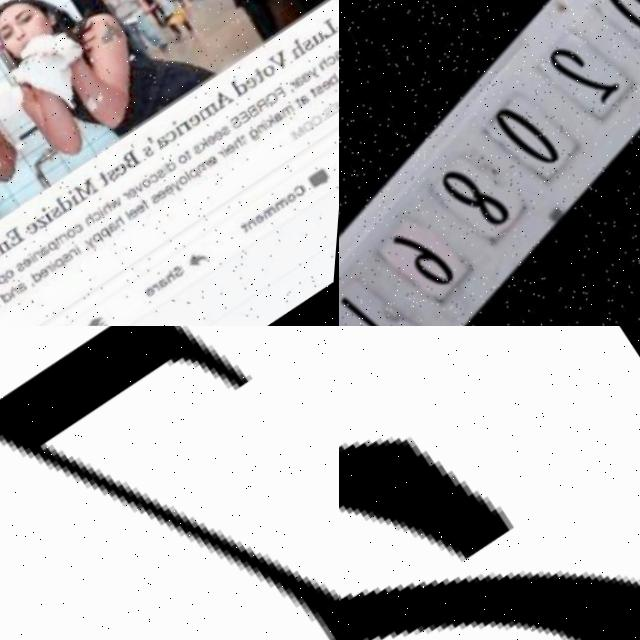0: (474, 65, 596, 190), (581, 0, 640, 62)
1: (339, 259, 433, 326)
2: (528, 5, 640, 128)
6: (376, 194, 490, 310)
7: (0, 326, 339, 640)
8: (422, 129, 543, 253)
A: (339, 326, 640, 640)
